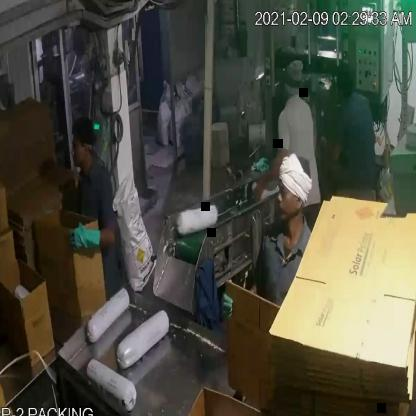glove: (66, 219, 114, 254)
no_glove: (252, 146, 288, 203)
